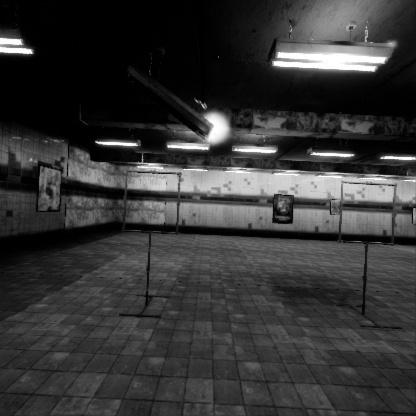gate: (122, 180, 186, 246), (339, 169, 402, 235)
